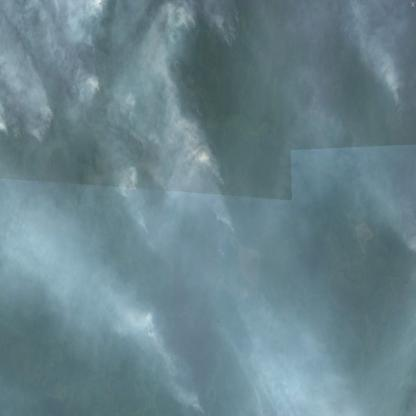fire: (0, 99, 61, 146), (141, 315, 176, 363), (197, 147, 231, 191), (113, 160, 144, 196), (216, 15, 242, 47), (390, 90, 410, 124), (221, 213, 242, 245), (86, 72, 108, 102), (181, 15, 199, 34), (138, 222, 156, 236), (198, 402, 212, 416)
